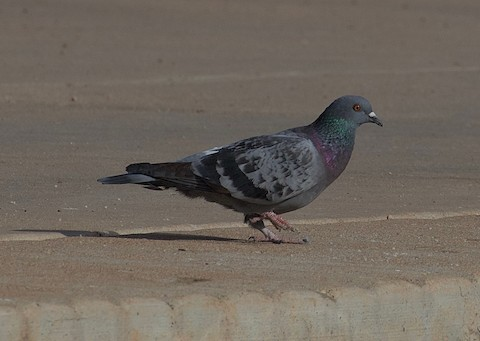pigeon: (92, 90, 386, 237)
